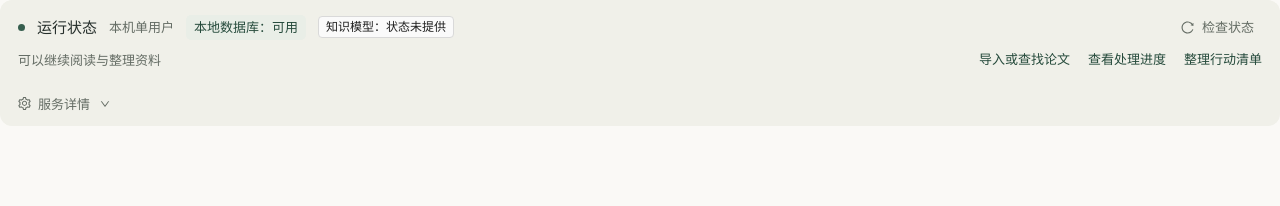
Test: a failed refresh removes stale healthy status and offers a concrete retry action
Expected: the text "本机单用户" is shown, [109,17,174,38]
Click the button "检查状态": [1218, 27] box [1173,15,1262,39]
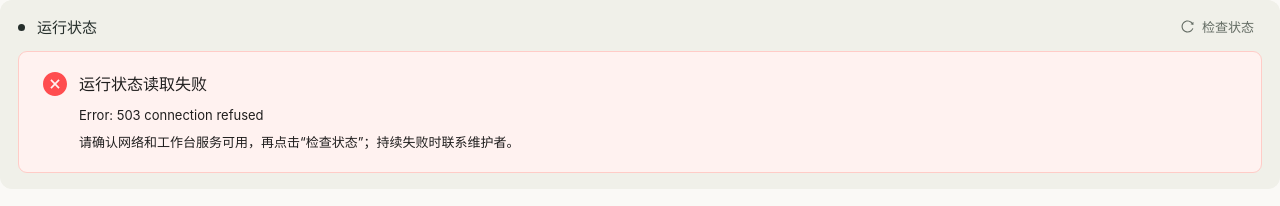
Expected: the text "运行状态读取失败" is shown, [79,74,207,94]
Expected: the text "本地数据库：可用" is gone
Expected: the text "请确认网络和工作台服务可用，再点击“检查状态”；持续失败时联系维护者。" is shown, [79,134,520,150]
